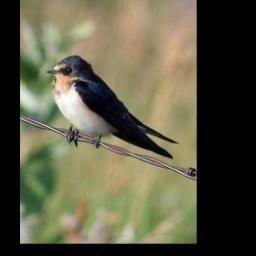Swallow: (45, 52, 179, 164)
